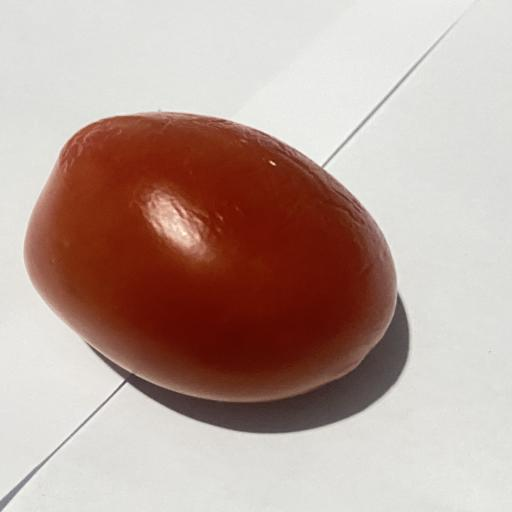spoiled: (25, 112, 396, 401)
